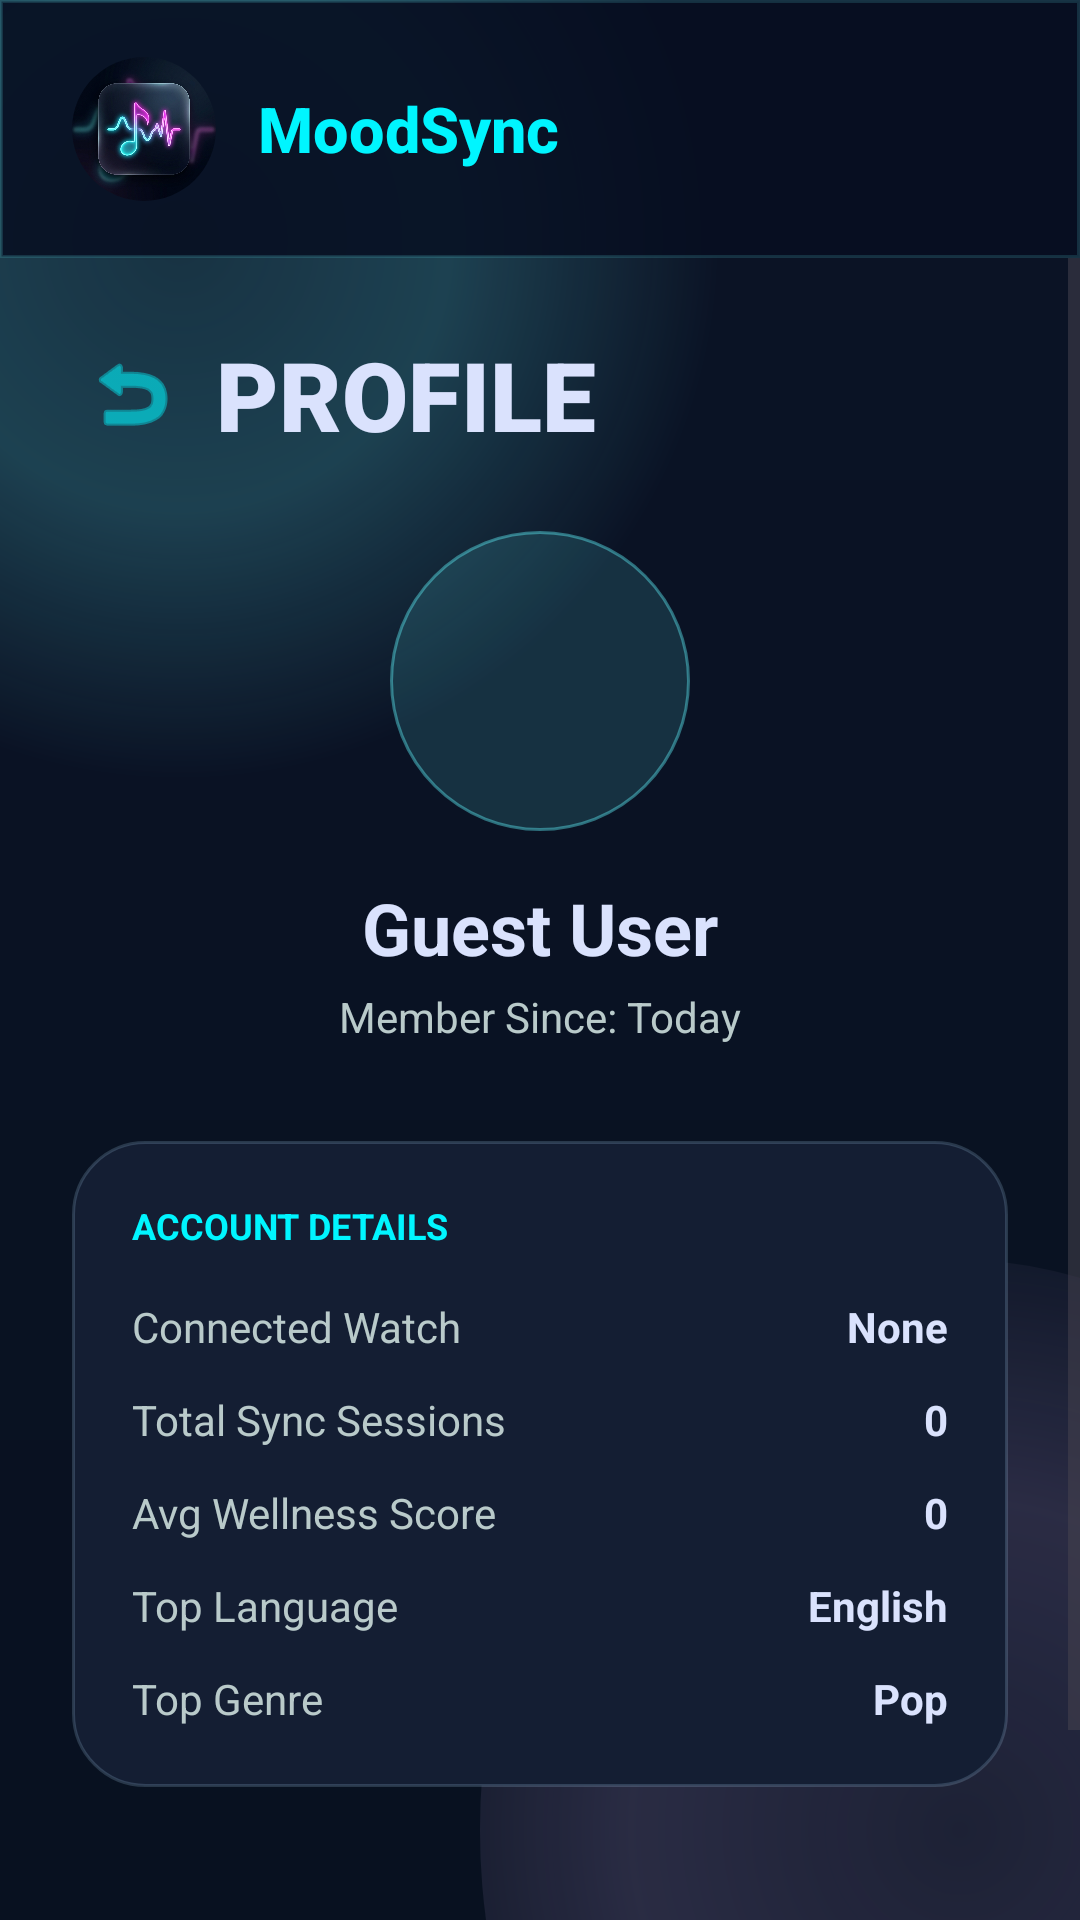

Screen size 1080px×1920px. Icon name, then its center in pixels as [x,y]:
Back: [133,394]
